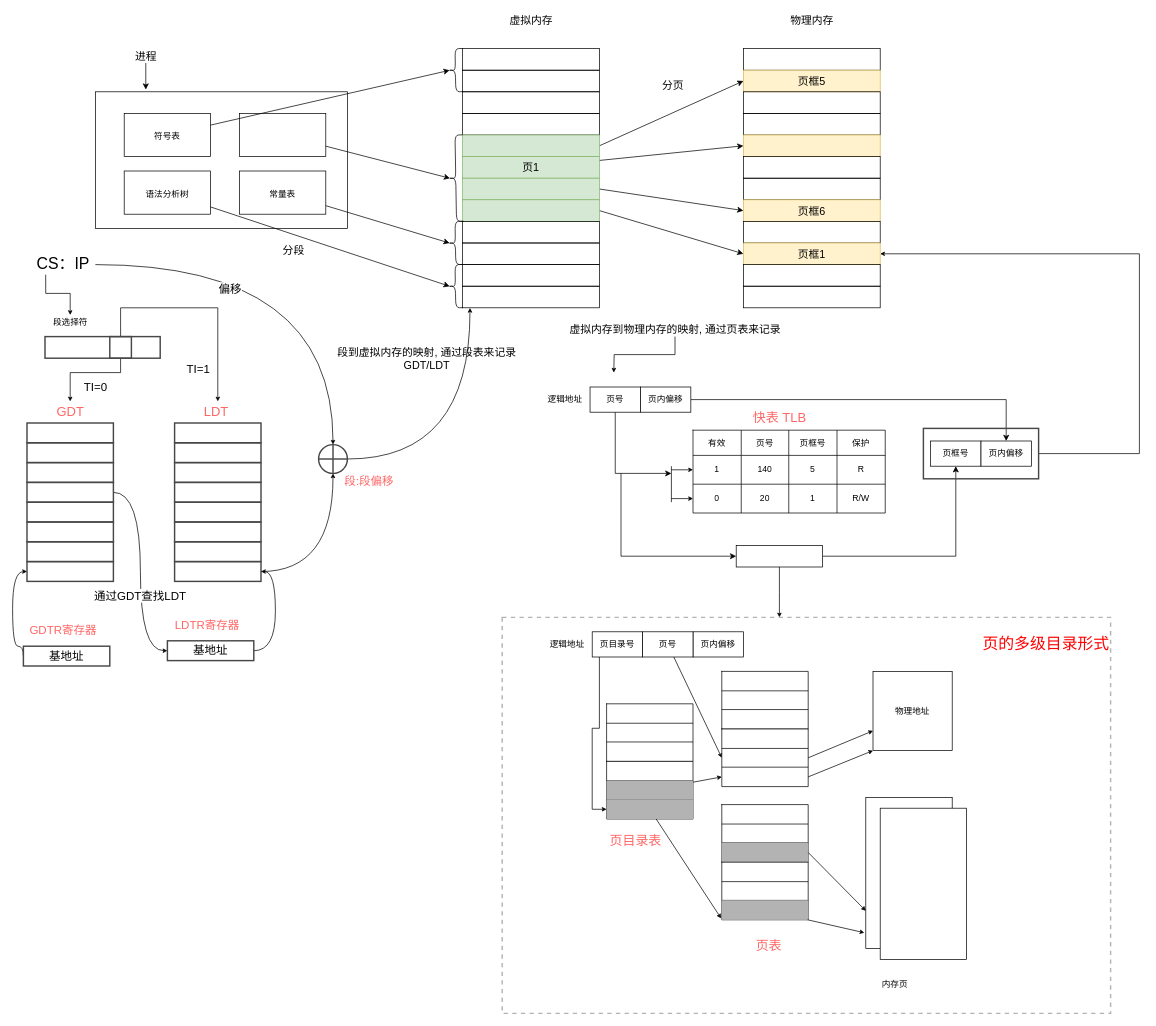
Some shapes in this 1156 by 1026 pixel diagram are drawn without their labels. The shapes that lost their labels are listed below. From the top down, each one's centre as x and y in pixels, then its label:
point 282,135: 调用堆栈
point 530,145: 页/虚拟页面0
point 811,145: 页框2
point 530,188: 页2
point 530,210: 页3
point 120,347: TI
point 217,571: 段基址
point 779,556: 多级页表
